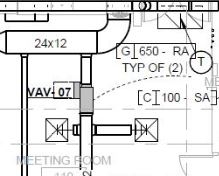VAV: (73, 77, 99, 118)
